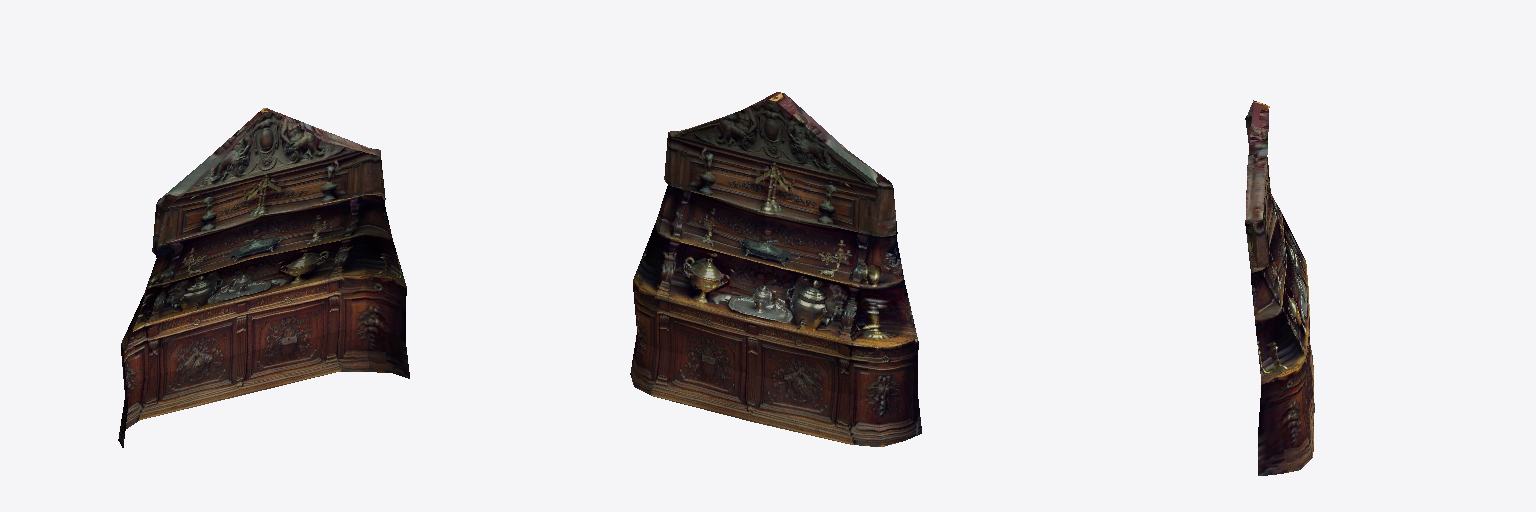
3 renders of one model, left to right at view 1: azimuth 30°, elevation 25°; view 2: azimuth 150°, elevation 25°; view 3: azimuth 270°, elevation 25°, orthographic.
Visible parts, largest first — view 1: Kitchen_GEO_GRP1_Shelf_01; view 2: Kitchen_GEO_GRP1_Shelf_01; view 3: Kitchen_GEO_GRP1_Shelf_01.
Part boxes in pixels (x1,y1,x2,y2): Kitchen_GEO_GRP1_Shelf_01: (118, 108, 409, 447); Kitchen_GEO_GRP1_Shelf_01: (630, 92, 921, 446); Kitchen_GEO_GRP1_Shelf_01: (1245, 100, 1314, 475).
Size of the model in its own units: 2.83 by 2.9 by 0.5926.
Materials: 1 (1 with a texture image).